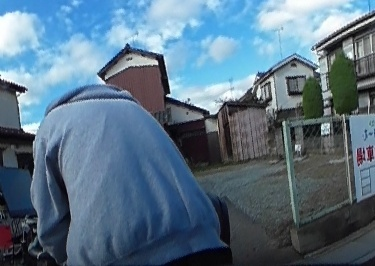person: (30, 82, 230, 266)
